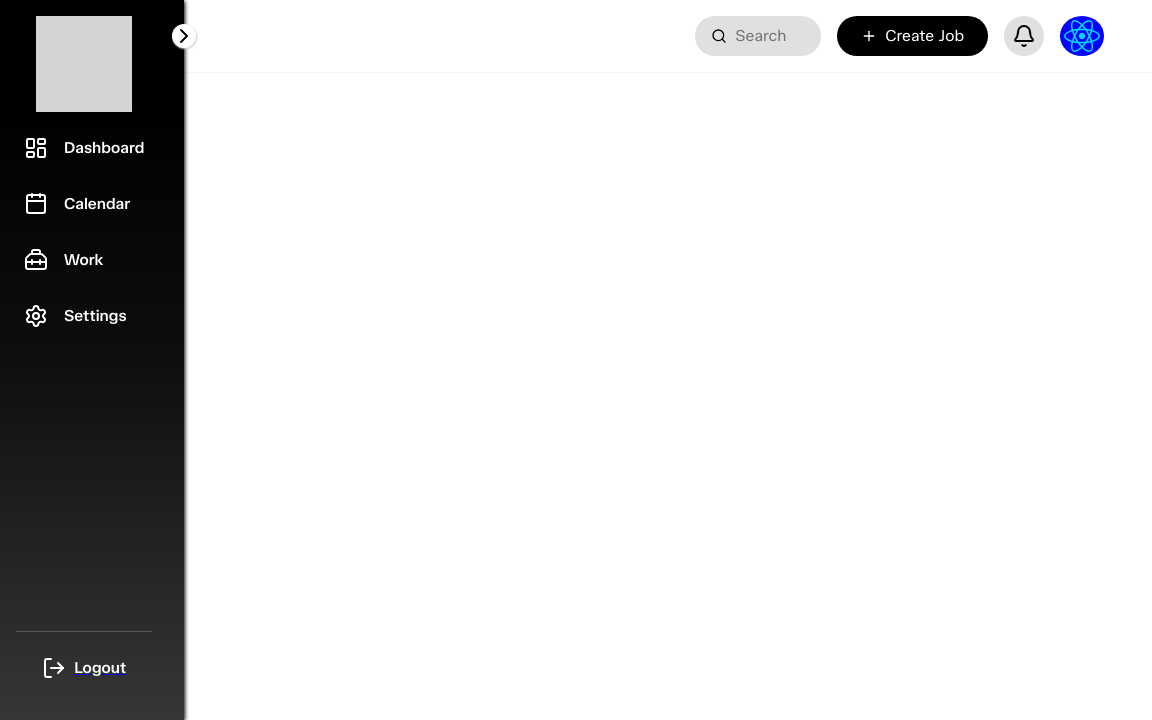
Test: Dashboard component › navbar functionality › should render open navbar button on close click
Click the button with test id "close-nav-btn".
click(184, 36)  # box [172,24,196,48]
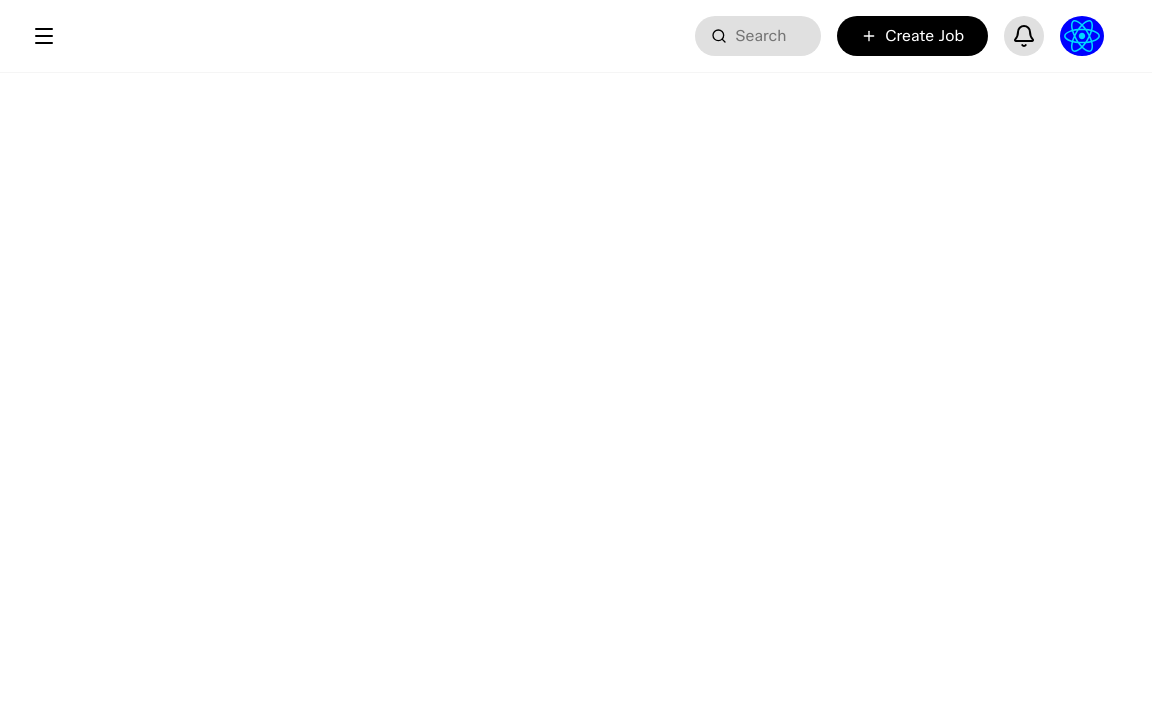
Expected: the button with test id "open-nav-btn" is shown, [32,24,663,48]
